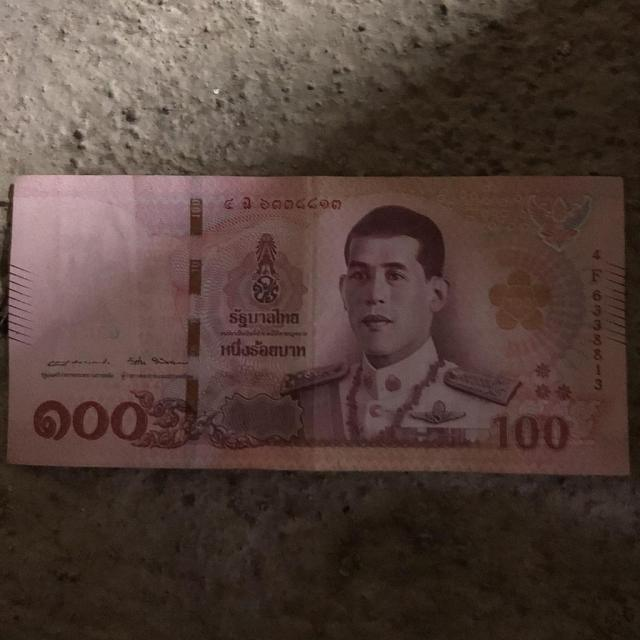THAI100: (3, 174, 632, 481)
